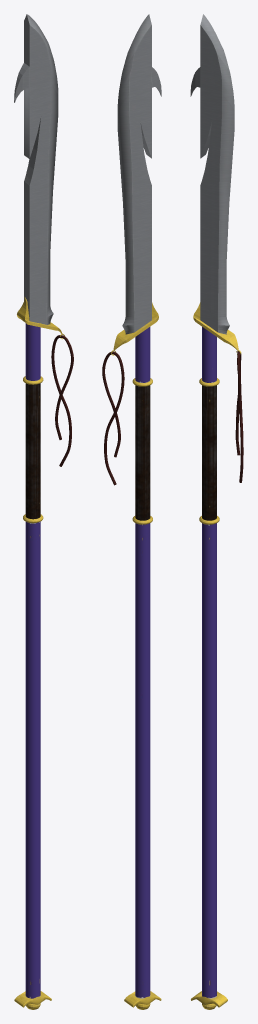
3 renders of one model, left to right at view 1: azimuth 30°, elevation 25°; view 2: azimuth 210°, elevation 25°; view 3: azimuth 330°, elevation 25°, orthographic.
Parts seen in each view (by area): view 1: Cylinder001; view 2: Cylinder001; view 3: Cylinder001.
Part boxes in pixels (<box>): Cylinder001: <box>14,14,73,1009</box>; Cylinder001: <box>102,14,161,1009</box>; Cylinder001: <box>190,14,243,1009</box>.
Bounding box in the file's own units: 5.02 × 86.67 × 1.78.
1 material, 1 textured.
